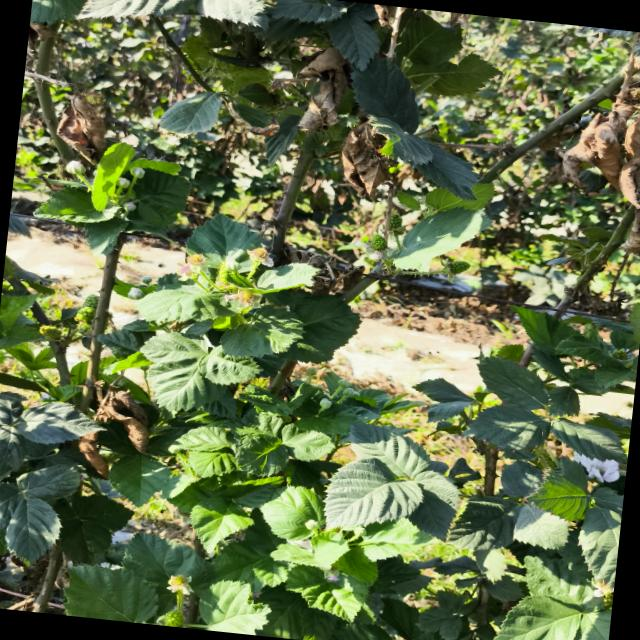boton: (127, 287, 143, 299), (223, 259, 238, 270), (319, 397, 331, 408), (344, 387, 356, 396), (306, 366, 316, 376), (338, 379, 349, 388), (140, 276, 152, 284)
